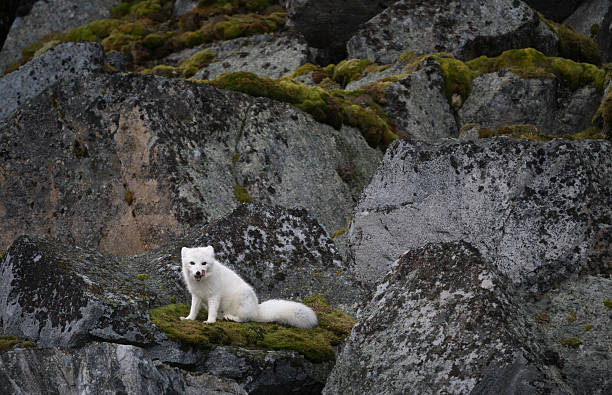arcticfox: (180, 245, 213, 293)
